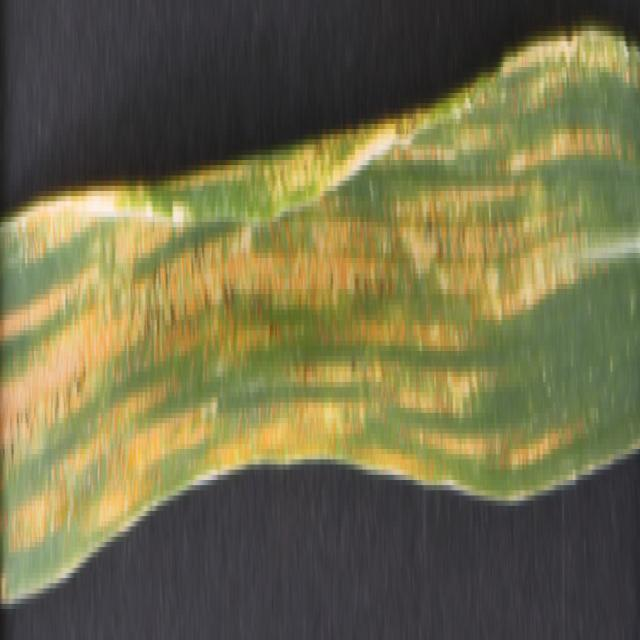leaf rust: (0, 62, 640, 542)
